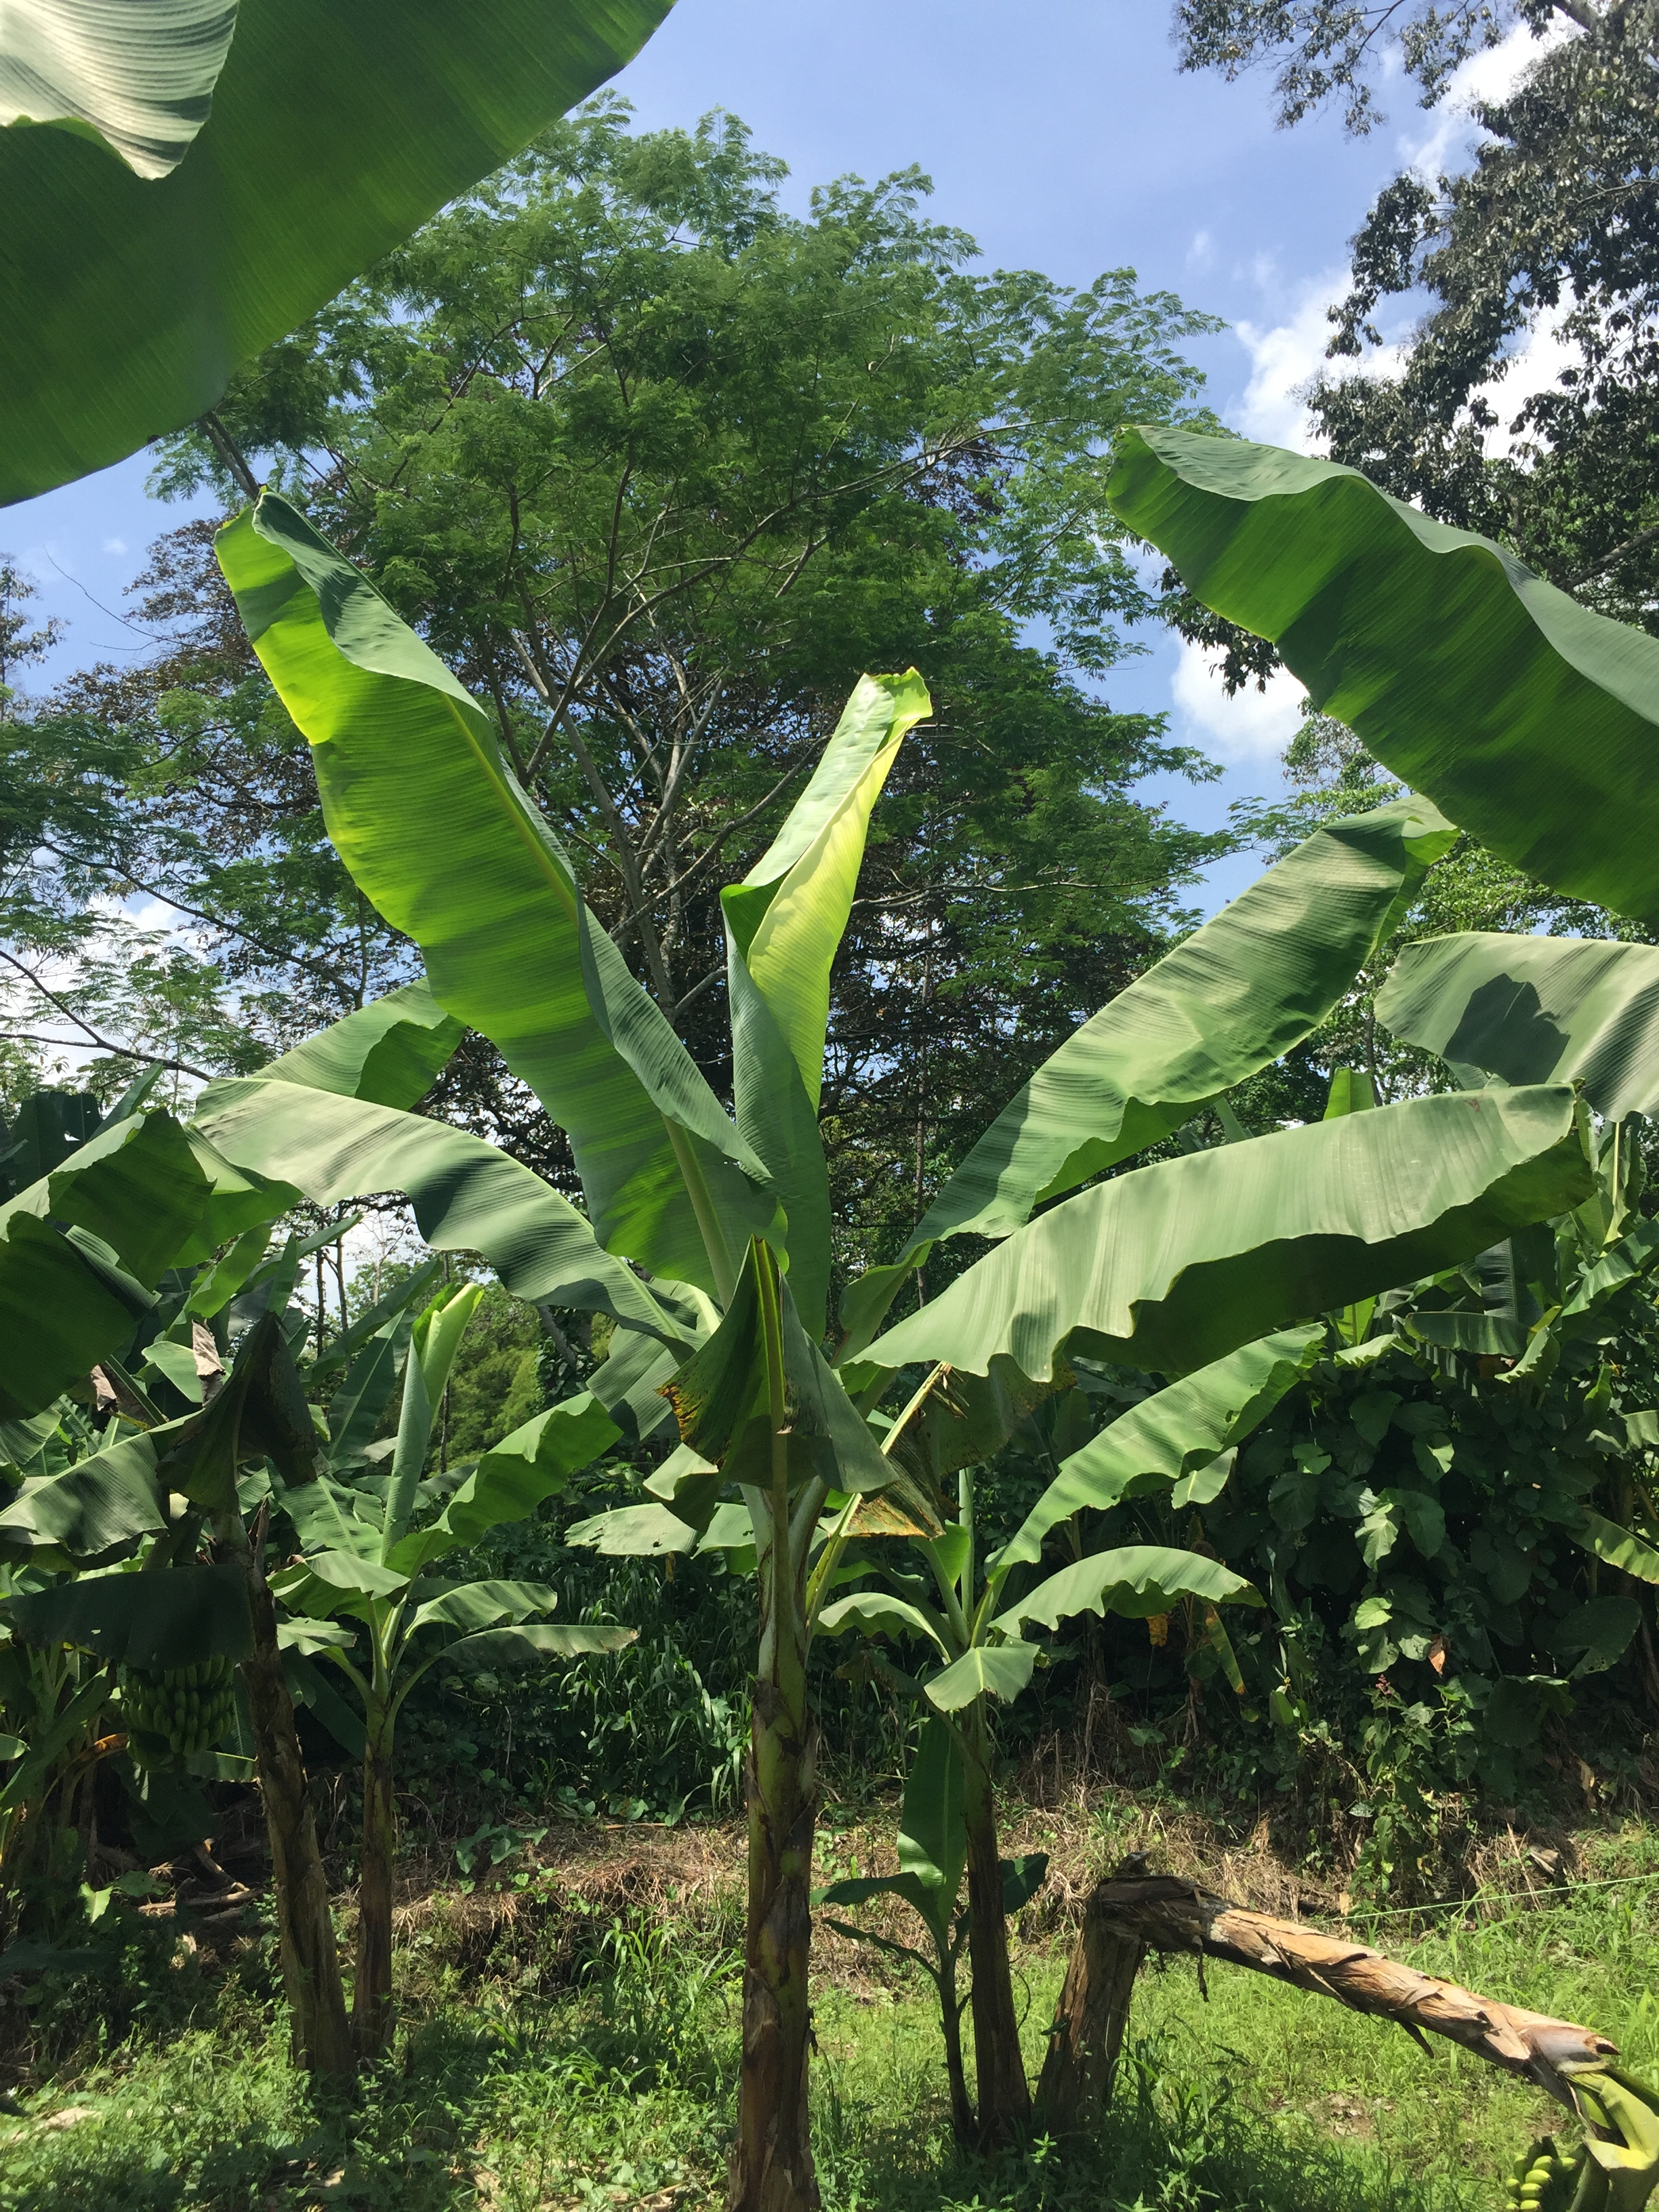candleleafs: (382, 1282, 486, 1568)
